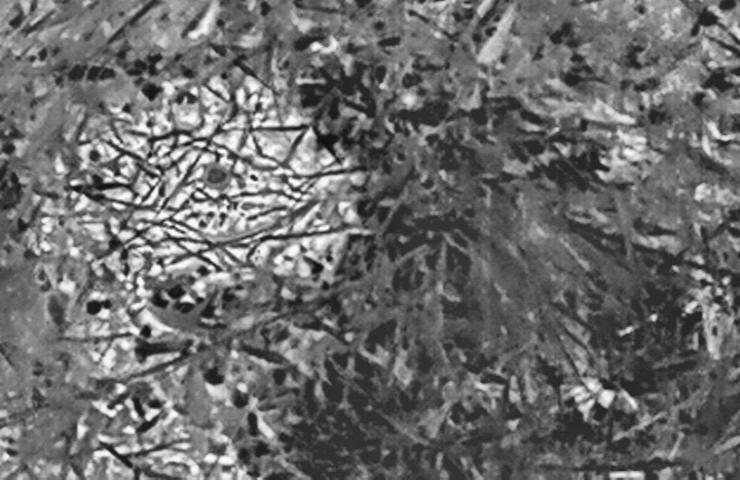landmines: (55, 72, 372, 319)
